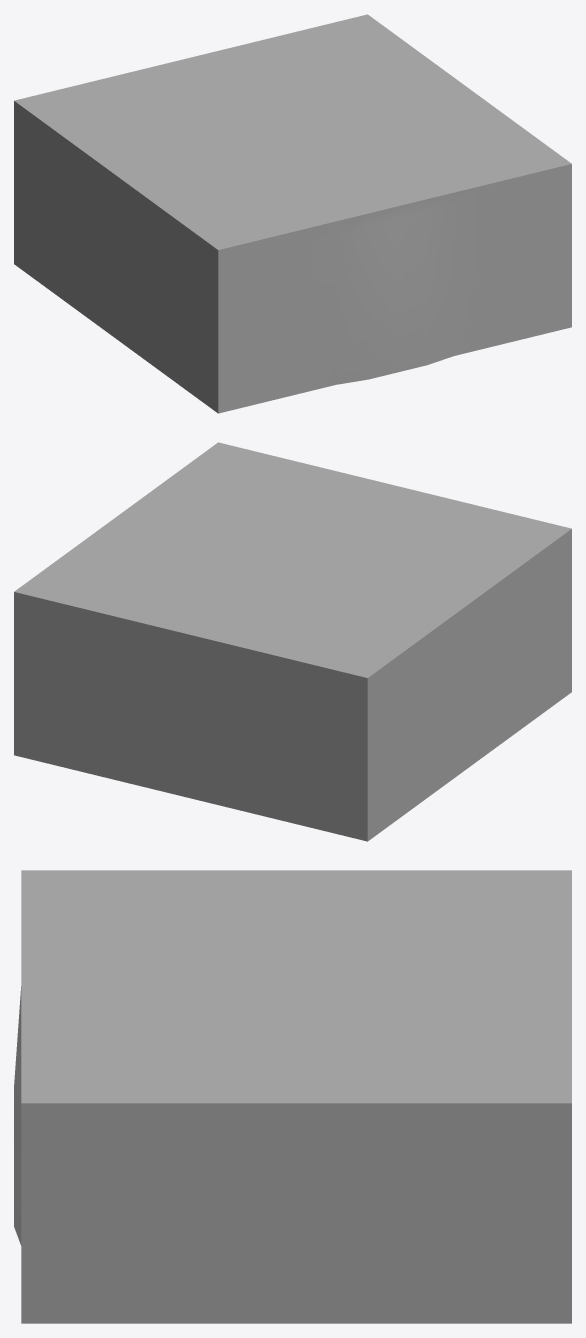
File: Walls.glb
The picture shows the model from 3 angles, top to bottom: view 1: azimuth 30°, elevation 25°; view 2: azimuth 150°, elevation 25°; view 3: azimuth 270°, elevation 25°; orthographic projection. The views are drawn at different scales.
Visible parts, largest first — view 1: CryoWalls; view 2: CryoWalls; view 3: CryoWalls.
Part boxes in pixels (box(x1,y1,x2,y2)): CryoWalls: box(14, 14, 571, 413); CryoWalls: box(14, 442, 571, 841); CryoWalls: box(14, 870, 571, 1323).
Size of the model in its own units: 12 by 5.3 by 12.16.
1 material, 1 textured.
